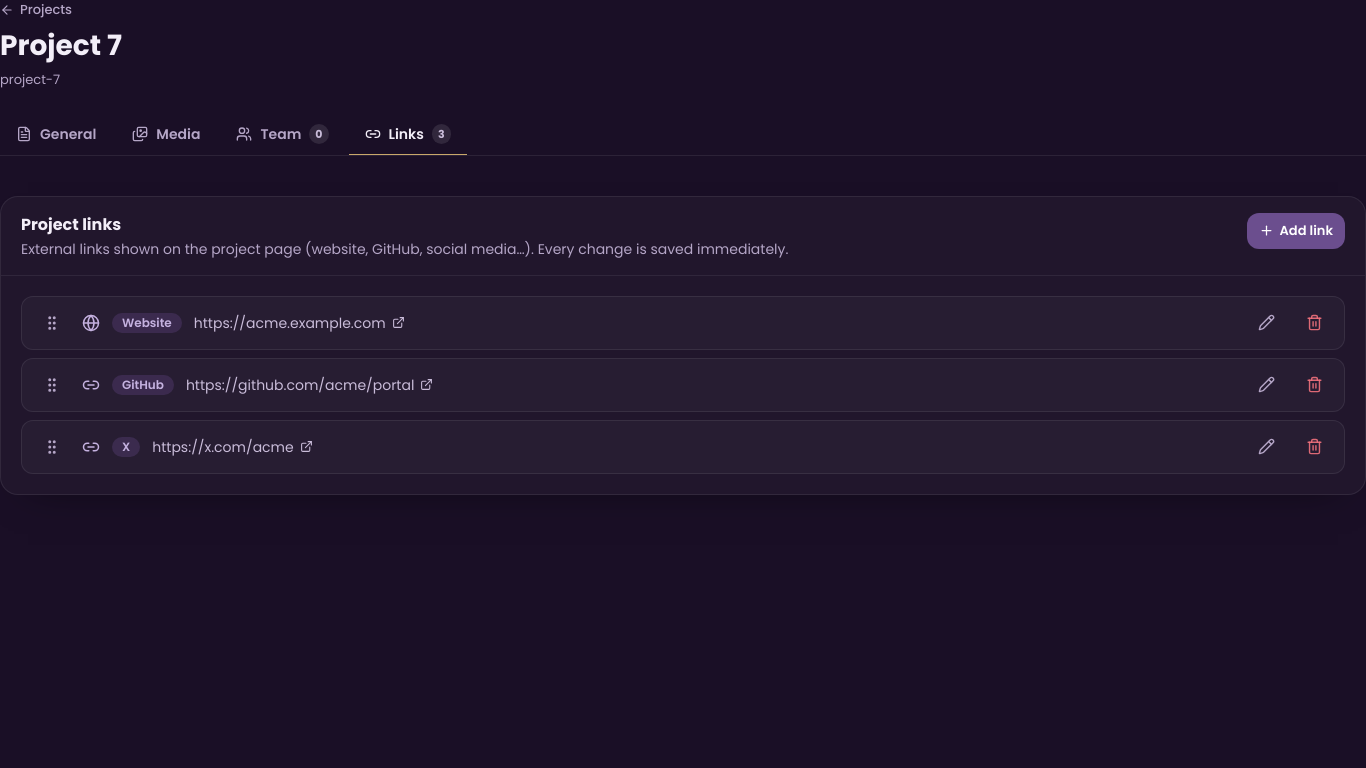
Test case: Links tab › add › opens a dialog with the URL focused, all nine types and Website preselected; Cancel closes it
The width and height of the screenshot is (1366, 768).
Expected: the list named "Project links" is shown, [21,296,1345,474]
Click the button "Add link". click: (1296, 231)
box: [1246,213,1345,249]
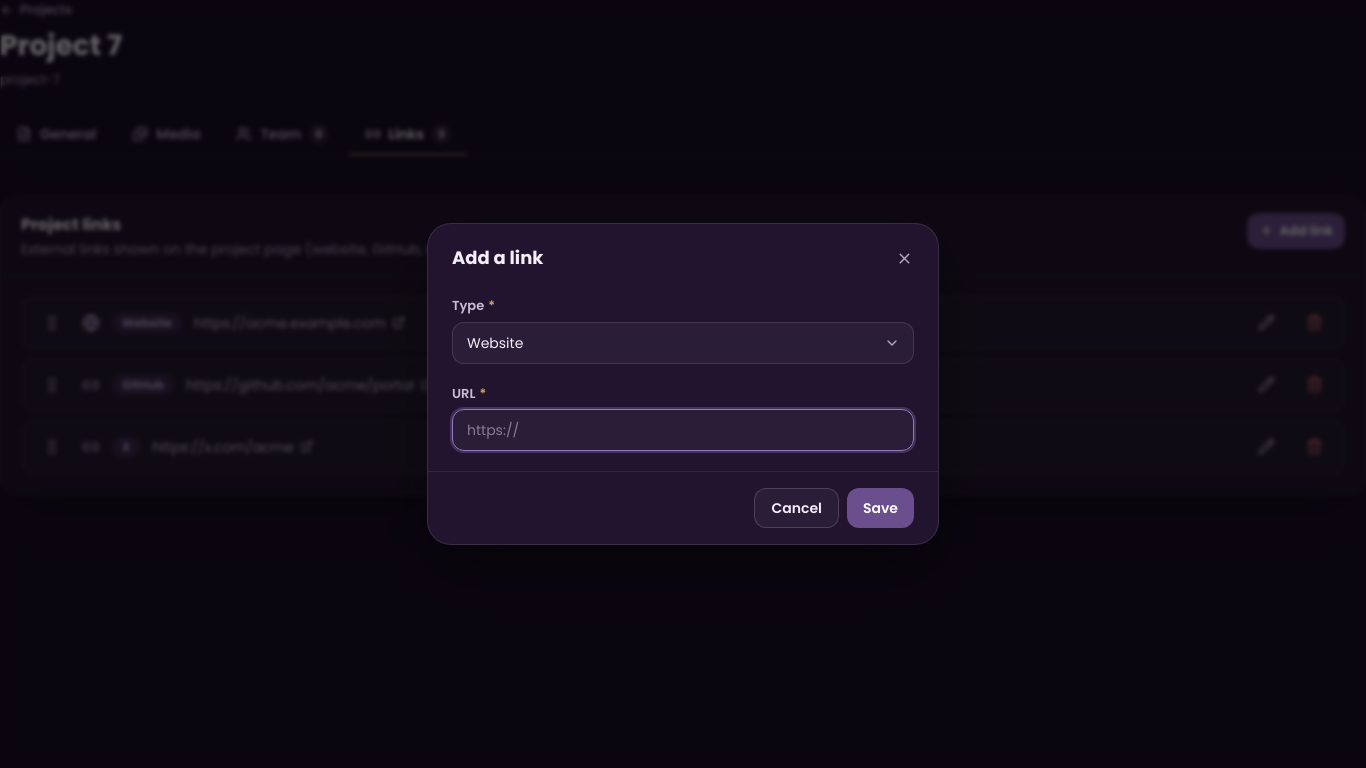
Expected: the dropdown labelled "Type *" shows "Website", [452,322,914,364]
Click the button "Cancel". click: (797, 508)
box: [754,488,839,528]
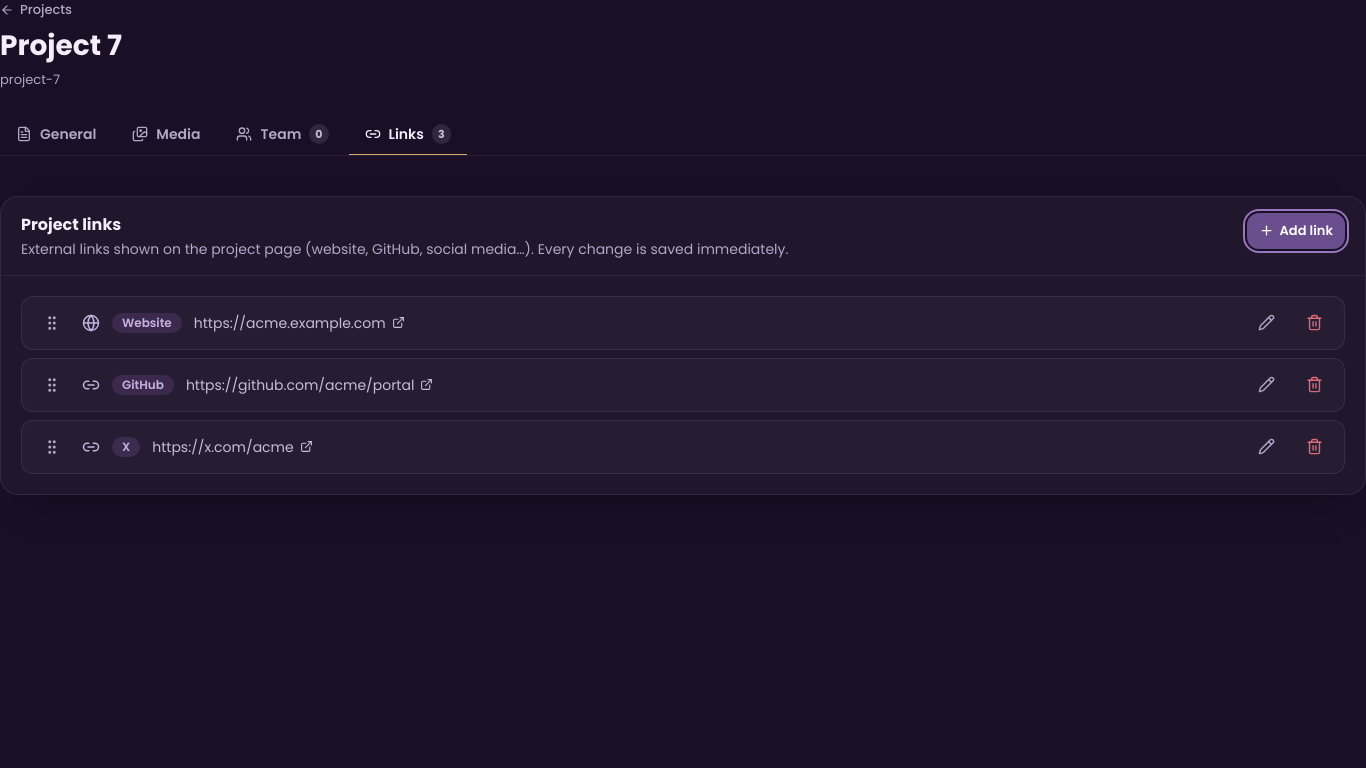
Expected: the dialog is gone
